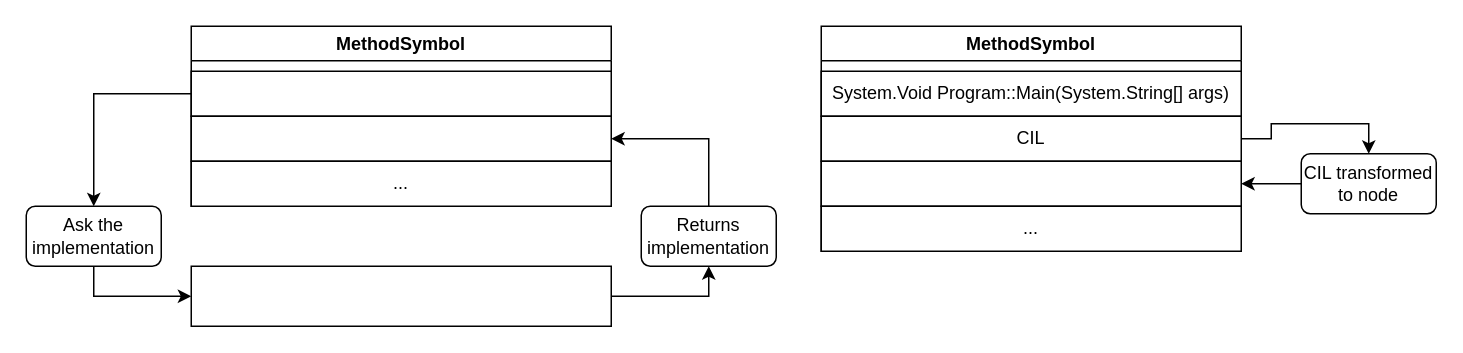
This 1463x353 diagram has some shape labels left out. Each missing label, with the centre of its shape:
CILMethodNode: point (1030, 183)
CILRuntimeSpecificMethodNode: point (400, 138)
RuntimeSpecificMethodImplementations: point (400, 295)
System.Void System.Console::Write(System.String): point (400, 93)
